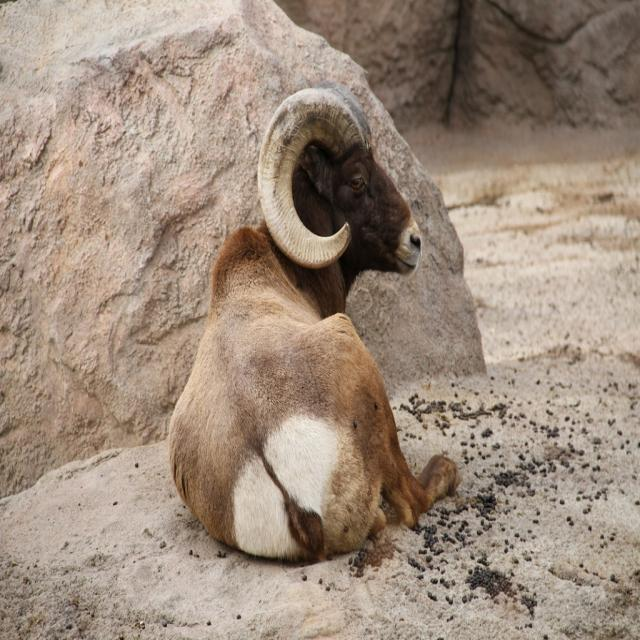Sheep: (166, 78, 464, 562)
